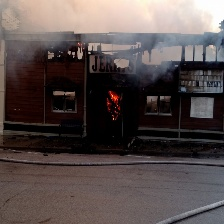fire: (103, 90, 124, 122)
smoke: (2, 1, 224, 58)
